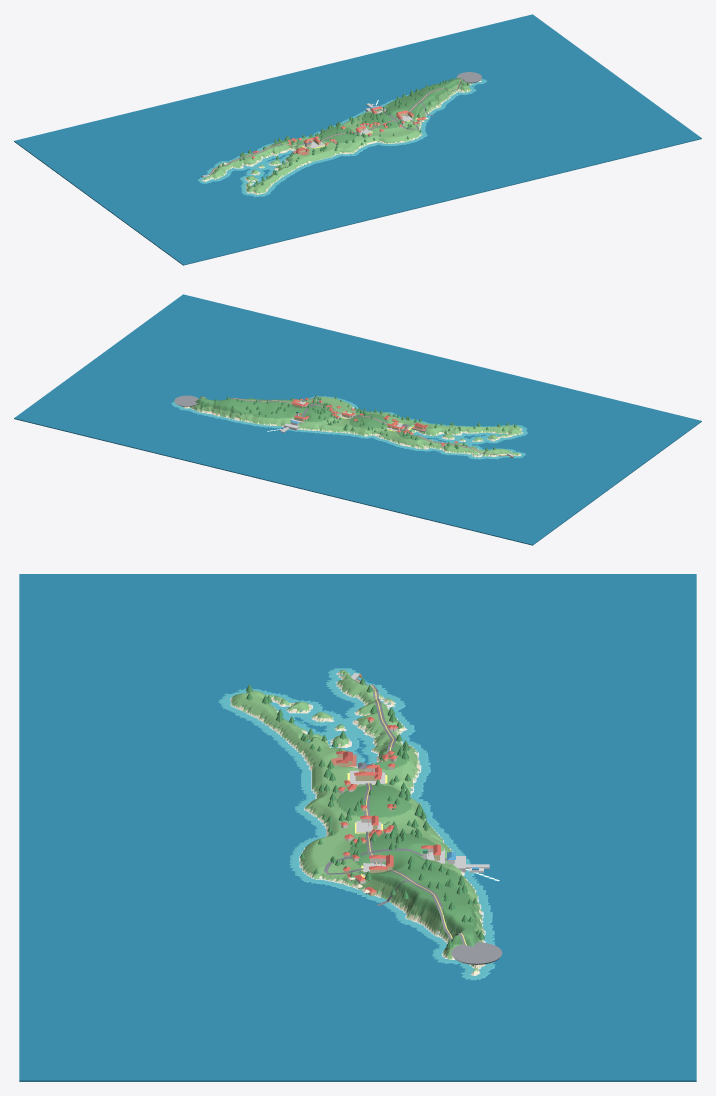
File: vinh_thuc_island.glb
3 views of the same model, one above another, from view 1: azimuth 30°, elevation 25°; view 2: azimuth 150°, elevation 25°; view 3: azimuth 270°, elevation 25° (orthographic). The views are drawn at different scales.
Visible parts, largest first — view 1: VinhThuc_Island_3D; view 2: VinhThuc_Island_3D; view 3: VinhThuc_Island_3D.
Part boxes in pixels (box(x1,y1,x2,y2)): VinhThuc_Island_3D: box(14, 14, 701, 265); VinhThuc_Island_3D: box(14, 294, 701, 545); VinhThuc_Island_3D: box(19, 574, 696, 1081).
Bounding box in the file's own units: 230 × 6.57 × 130.
